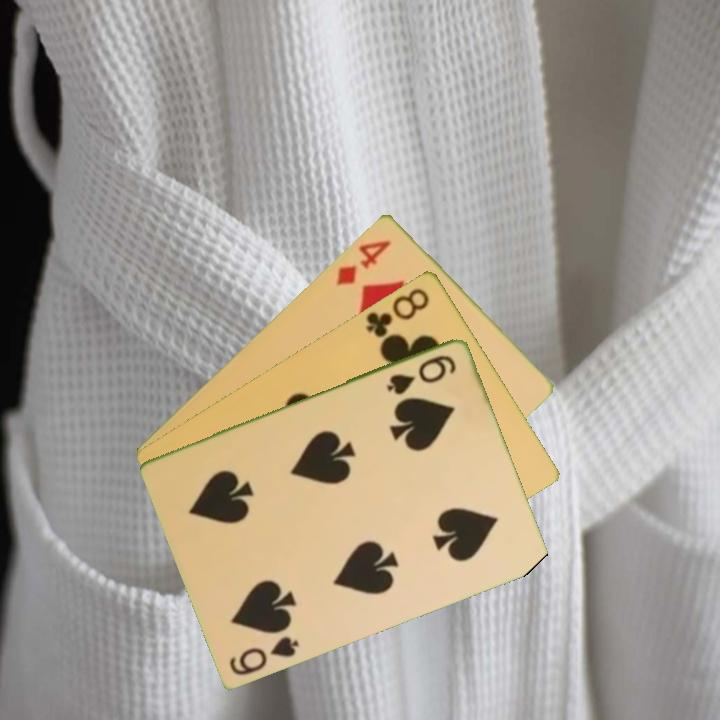4d: (332, 236, 394, 288)
6s: (384, 350, 460, 398), (226, 632, 303, 678)
8c: (362, 283, 433, 340)
